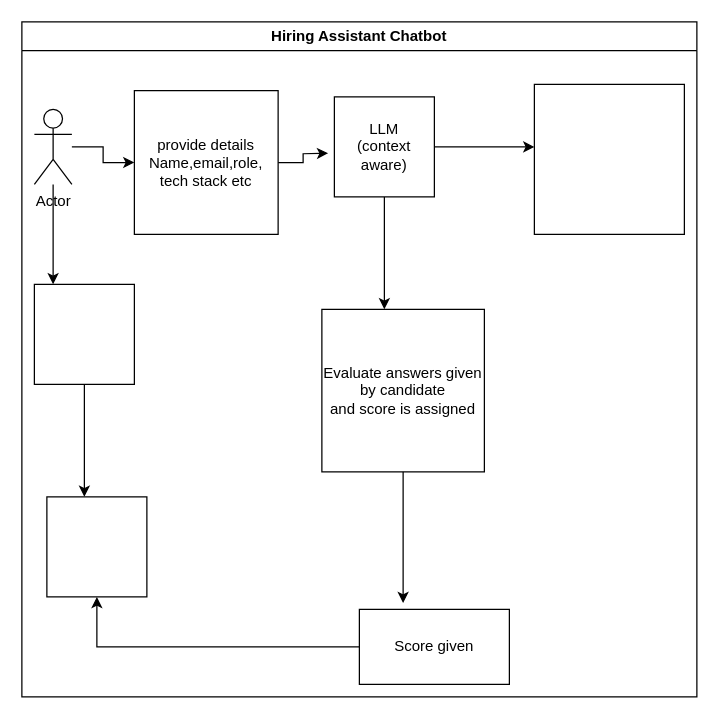
The diagram is 719 pixels wide and 719 high, and some of its shapes have lost their labels. The box of each missing label's shape, as (x1, y1, x2, y2) in pixels:
Generate 5 questions based on techstack, exp and role: (533, 83, 684, 234)
Interview completed chat is blocked: (46, 496, 147, 597)
Quit interview anytime: (33, 283, 134, 384)
